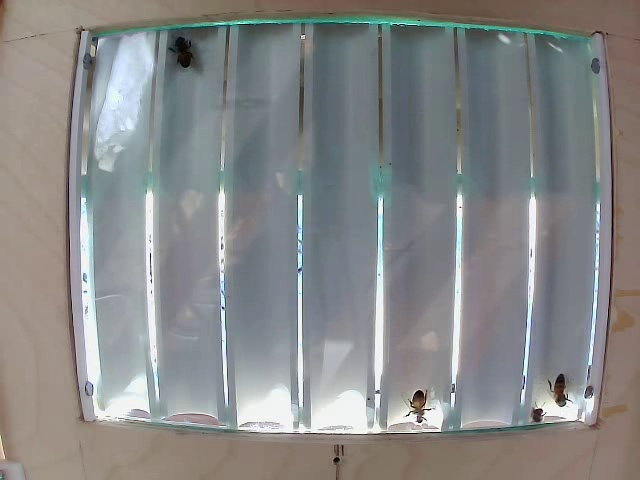bee: (544, 371, 578, 408), (167, 38, 202, 65), (415, 392, 440, 422)
